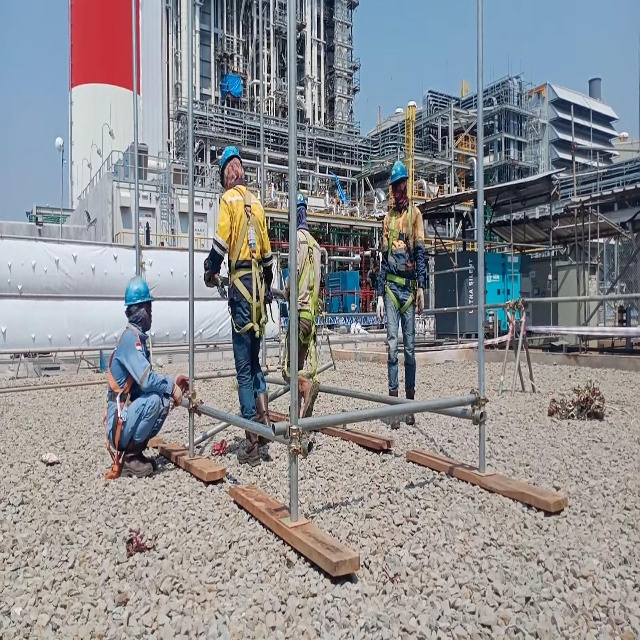Arnes_seguridad: (227, 181, 271, 345), (296, 224, 324, 385), (104, 344, 135, 487), (382, 198, 418, 315)
